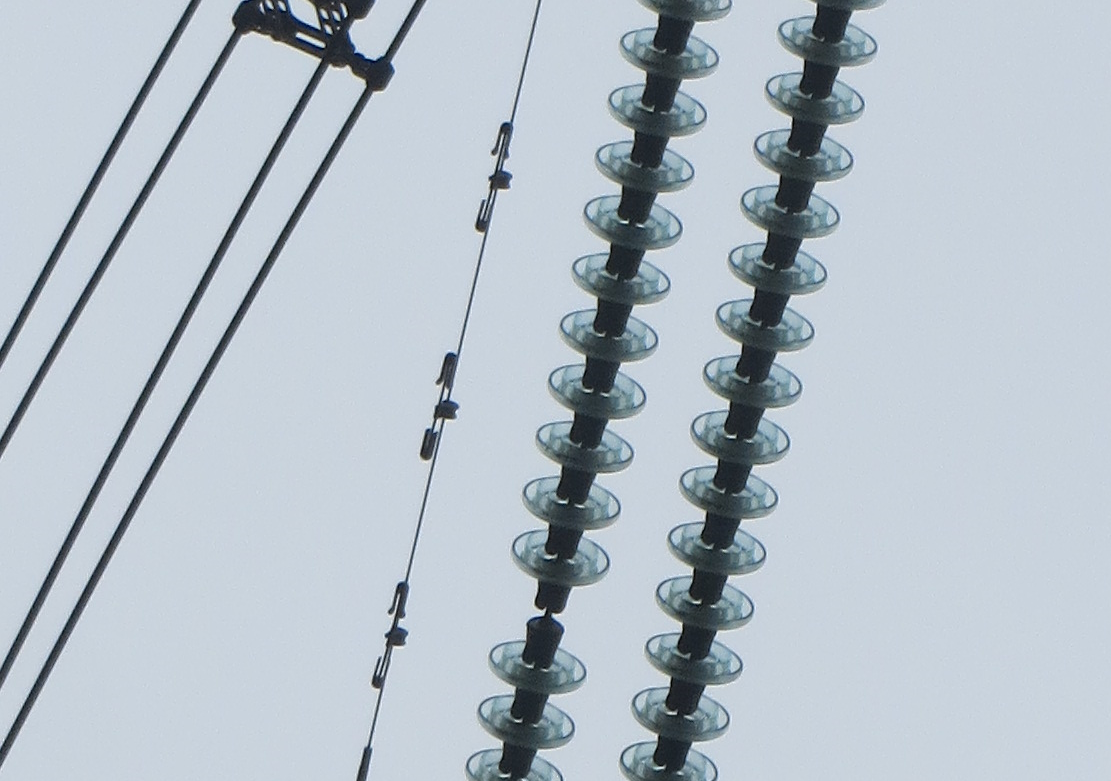damper: (469, 118, 518, 235), (415, 348, 463, 462), (365, 578, 411, 693)
